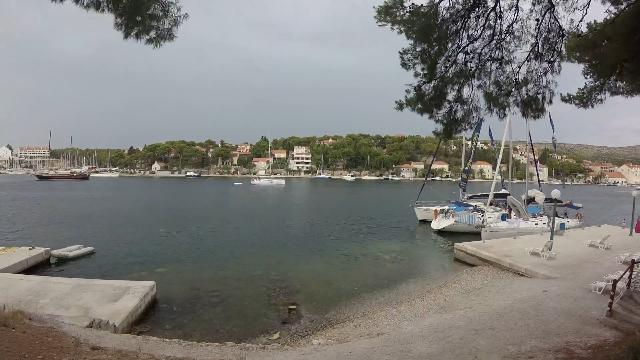Freighter: (24, 168, 96, 184)
Sailboat: (242, 170, 290, 190)
